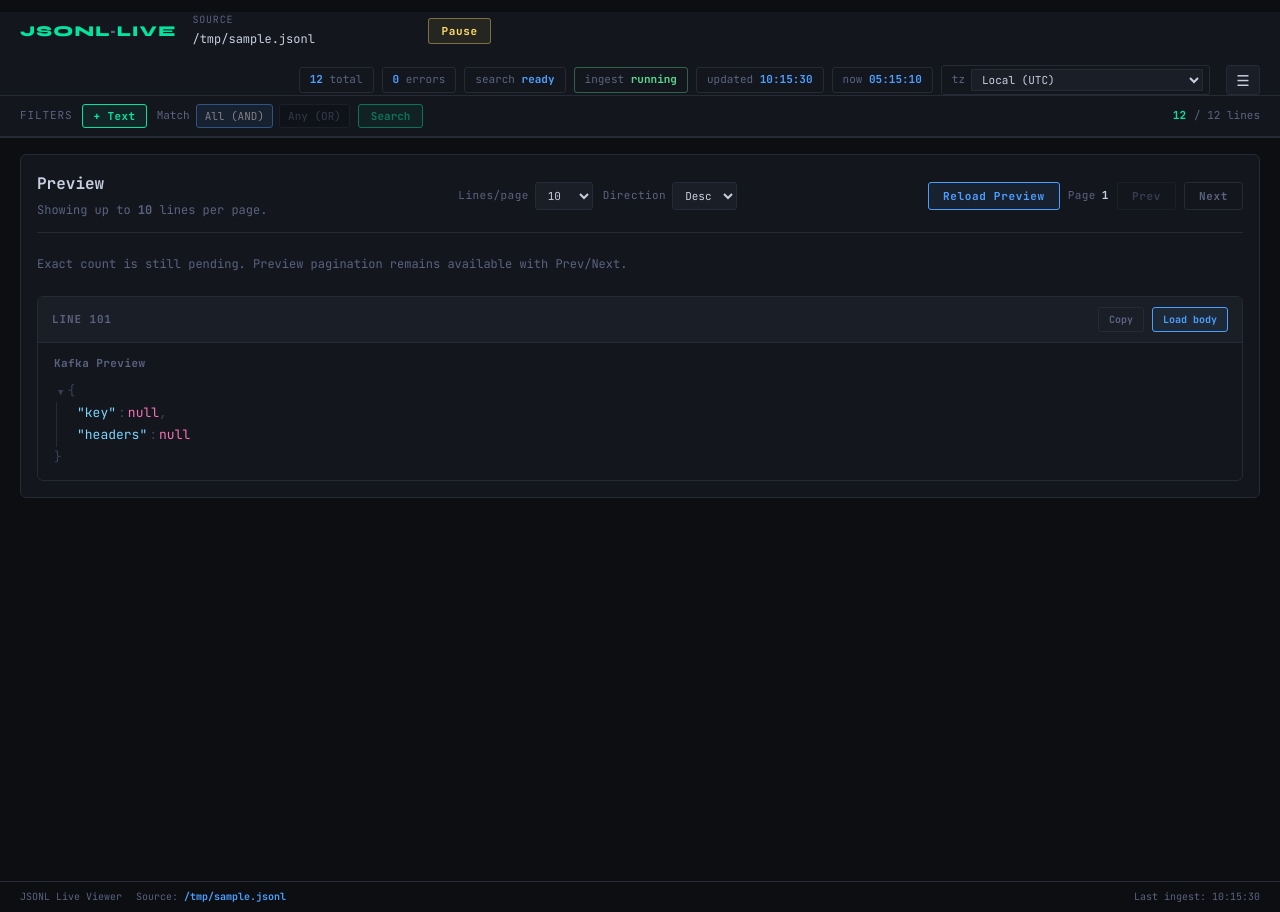
Test case: App admin confirmations and lock › requests exact counts once availability flips back to true and moves deferred -> pending -> ready
Click the button "+ Text". click: (115, 116)
box: [82, 104, 147, 128]
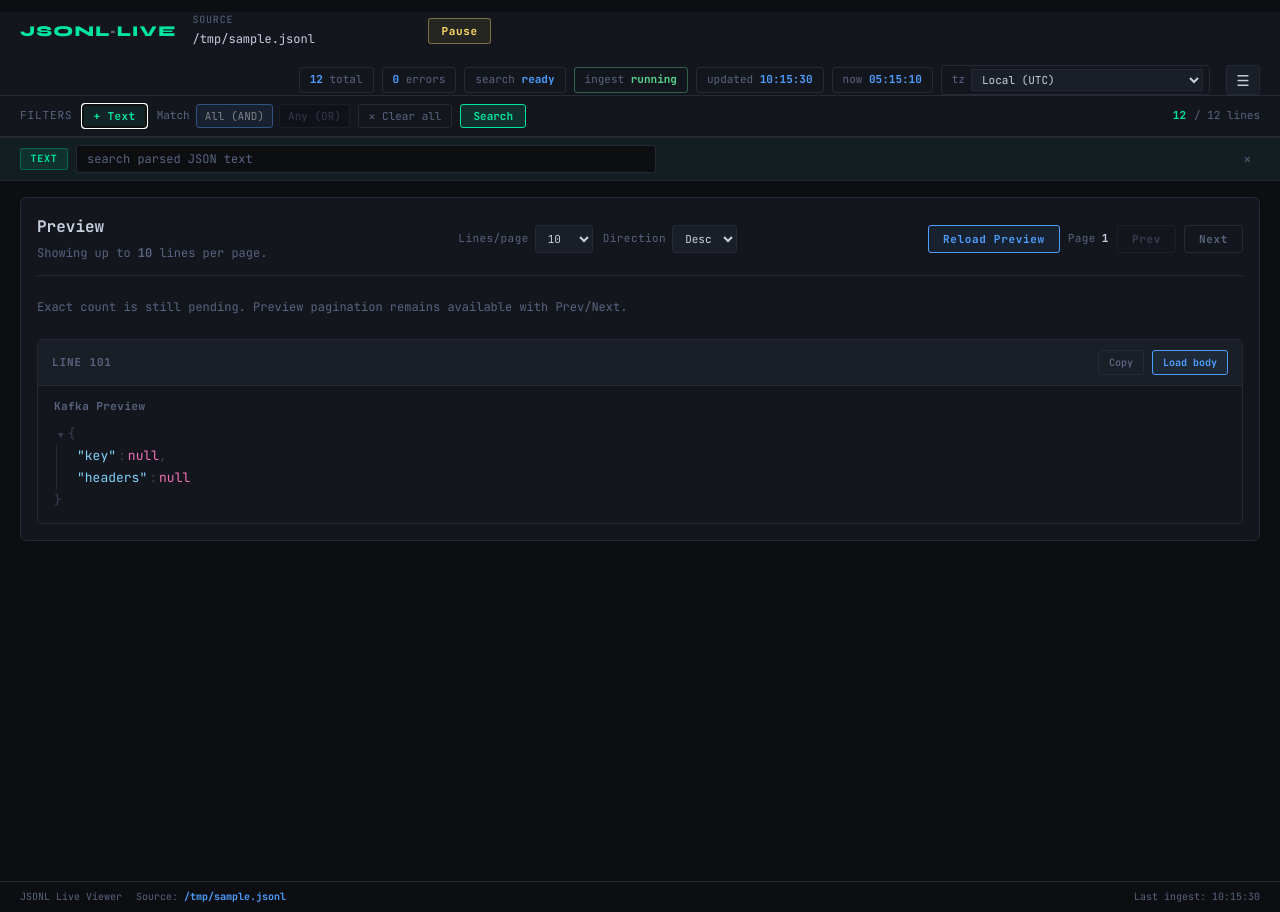
Type "error" into the field named "Full text query". click: (366, 159)
box: [76, 145, 656, 173]
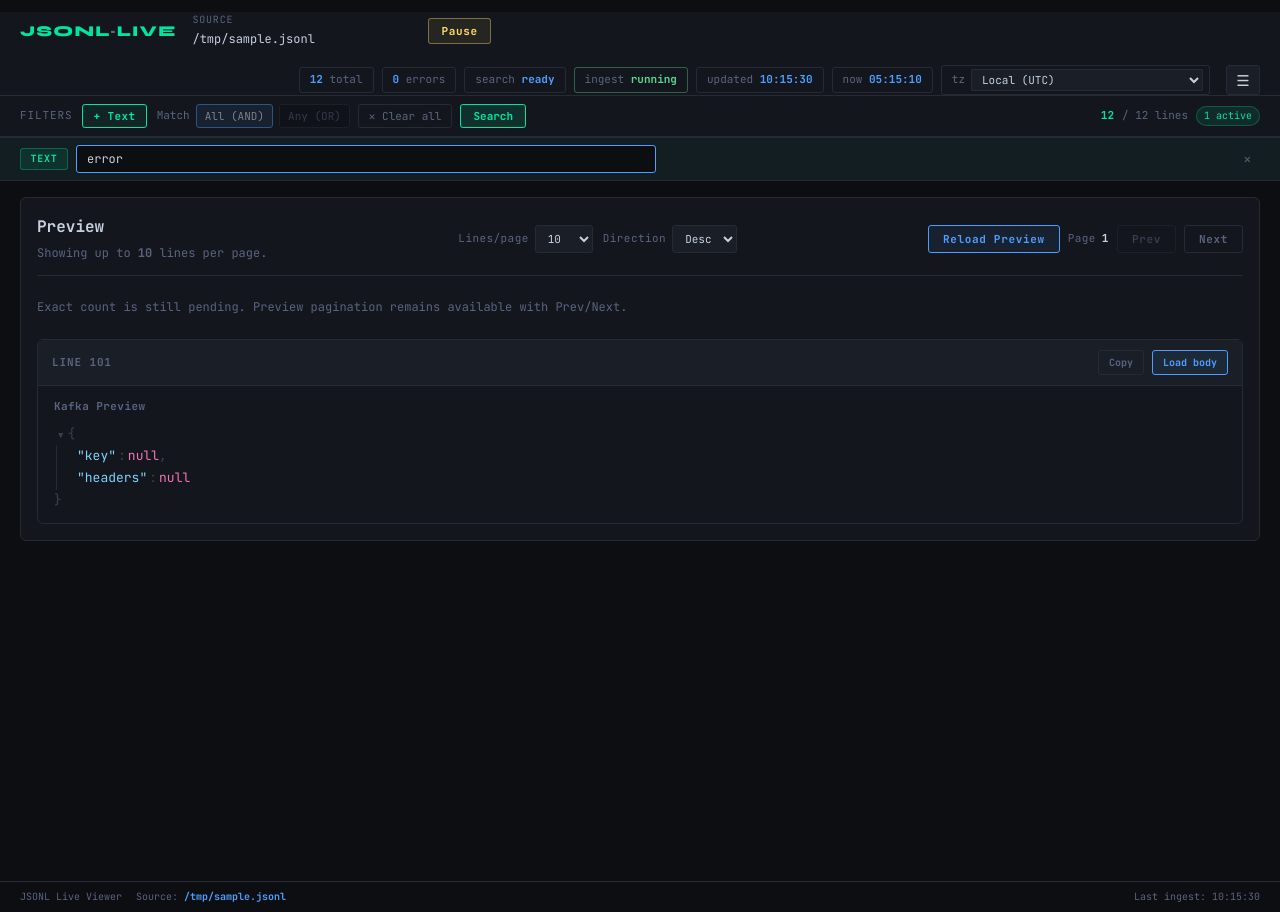
Click the button "Search". click: (493, 116)
box: [460, 104, 526, 128]
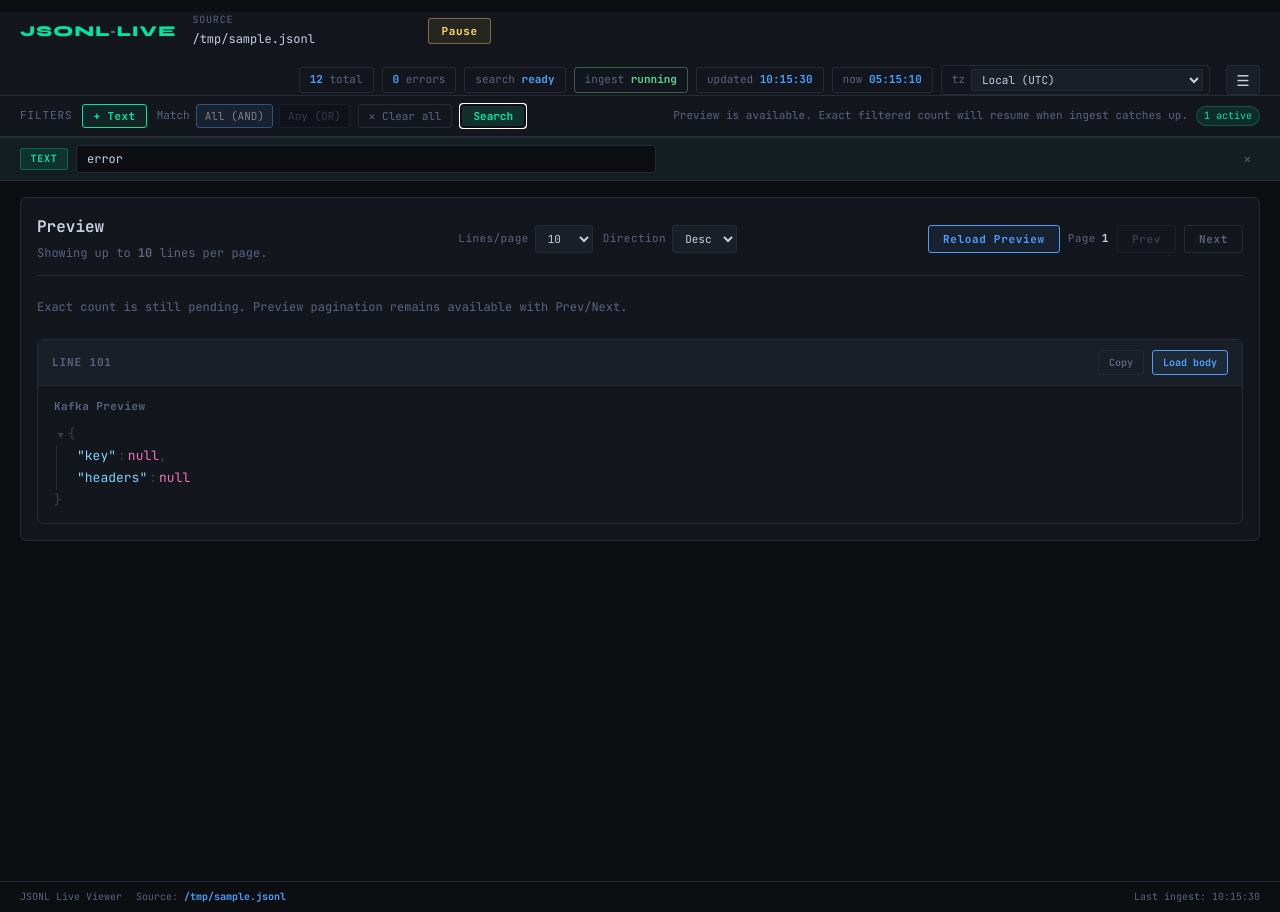
Now the text "Preview is available. Exact filtered count will resume when ingest catches up." is shown, box [673, 107, 1188, 125]
Click the button "Pause". click: (460, 31)
box: [428, 18, 491, 44]
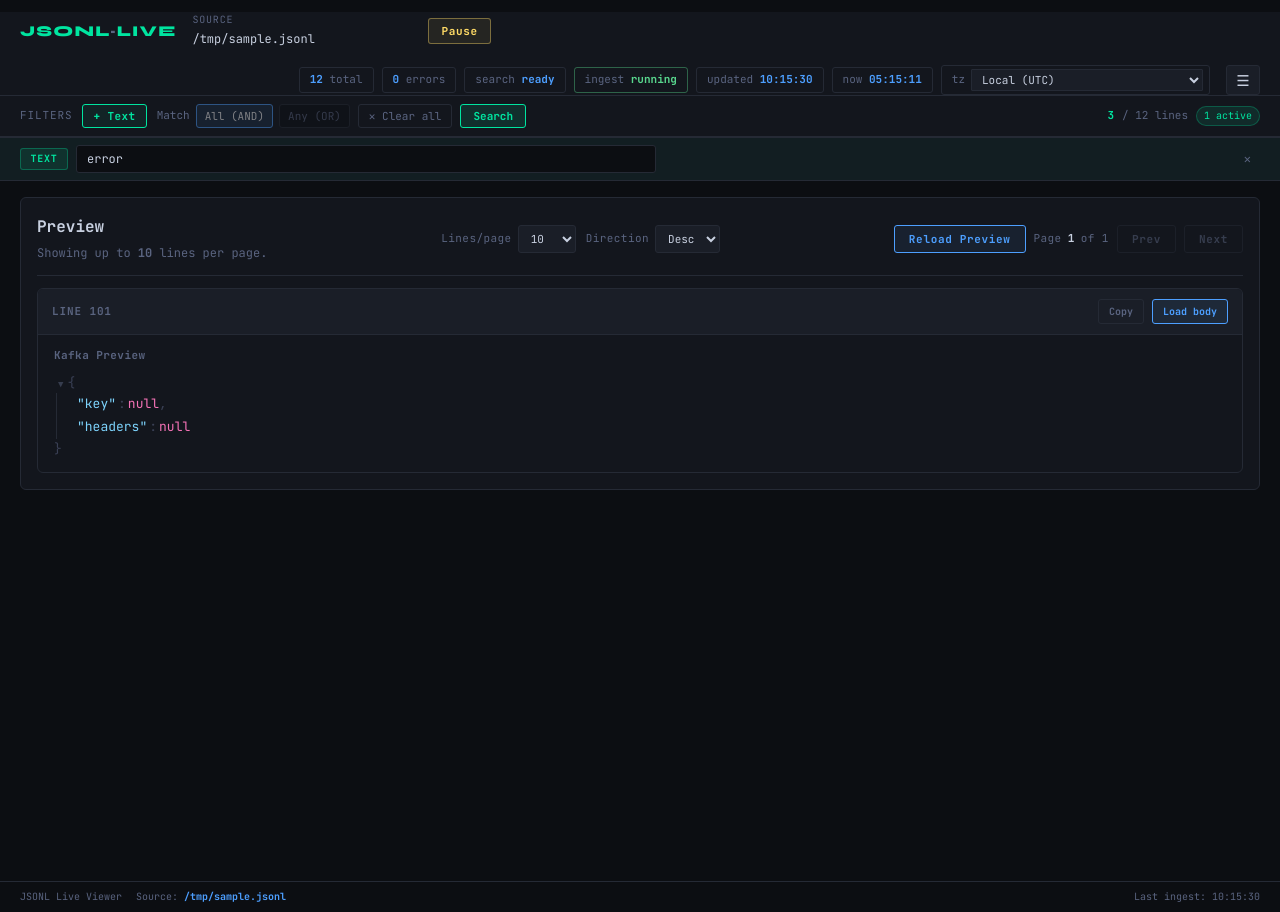
Now the element with class "sb-count" reads "3 / 12 lines 1 active", box [1107, 106, 1260, 126]
